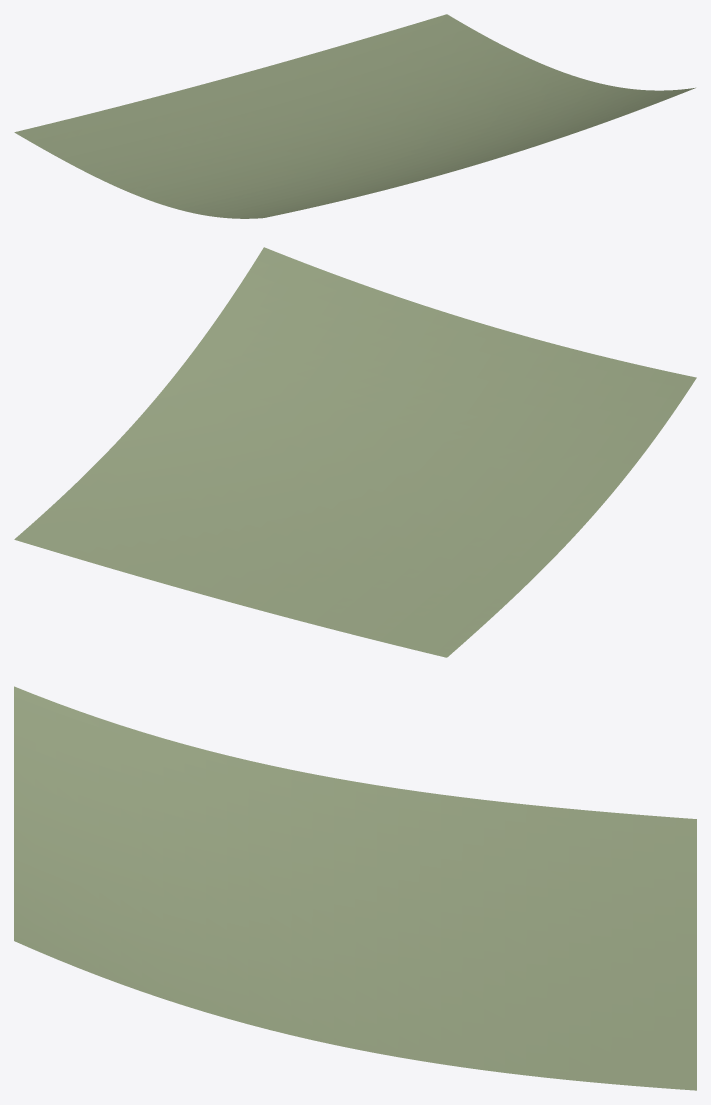
File: expanse-25-27.glb
The picture shows the model from 3 angles, top to bottom: view 1: azimuth 30°, elevation 25°; view 2: azimuth 150°, elevation 25°; view 3: azimuth 270°, elevation 25°; orthographic projection. The views are drawn at different scales.
Parts seen in each view (by area): view 1: expanse-25-27; view 2: expanse-25-27; view 3: expanse-25-27.
Boxes of the visible parts, box(x1,y1,x2,y2) form: expanse-25-27: box(14, 14, 695, 218); expanse-25-27: box(14, 247, 696, 657); expanse-25-27: box(14, 686, 696, 1090).
Bounding box in the file's own units: 256 × 69.01 × 256.
